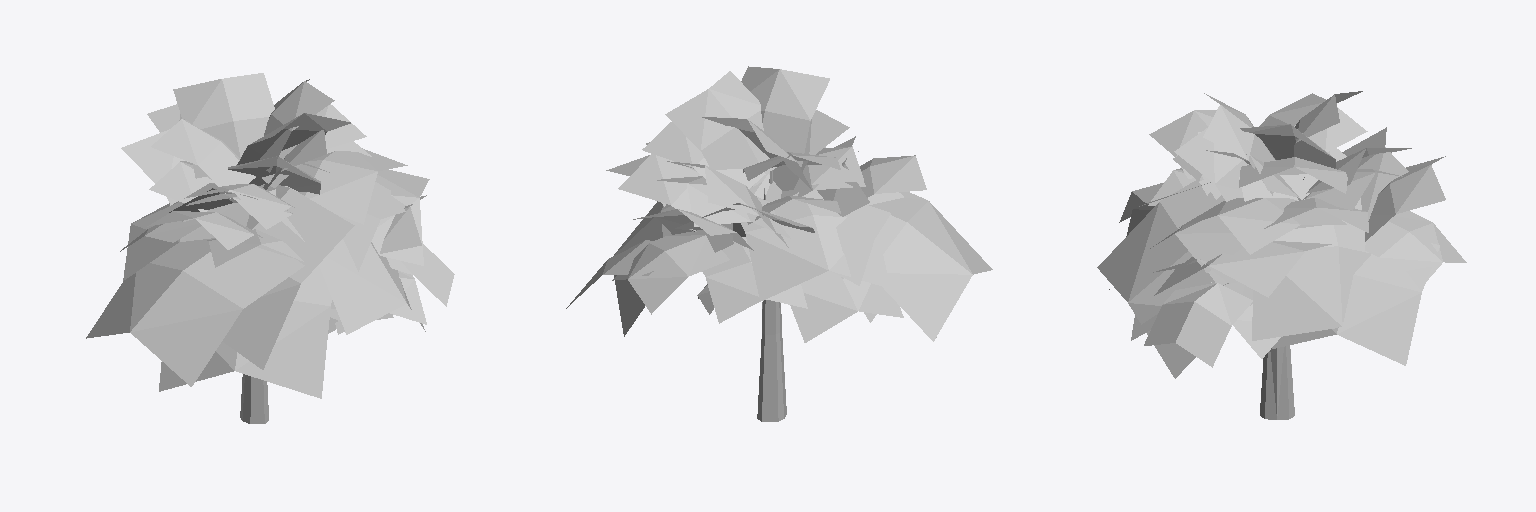
File: tree4.obj
3 renders of one model, left to right at view 1: azimuth 30°, elevation 25°; view 2: azimuth 150°, elevation 25°; view 3: azimuth 270°, elevation 25°, orthographic.
Bounding box in the file's own units: 8.24 × 7.52 × 7.95.